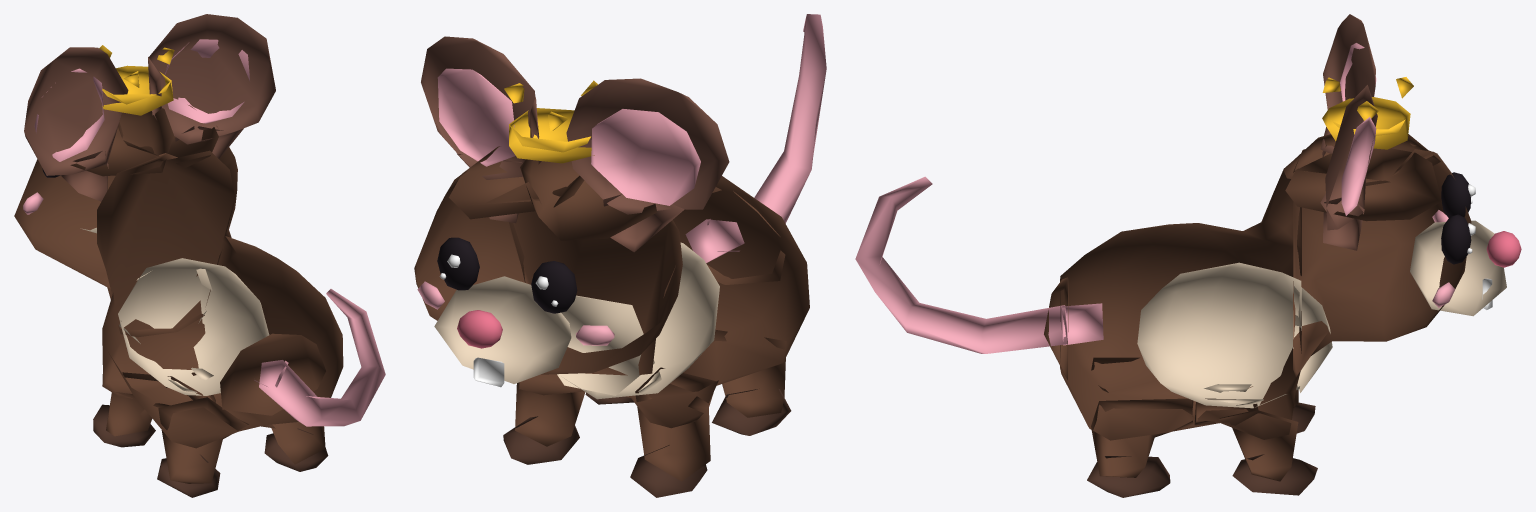
The model's file is mouse_mouse.glb.
3 renders of one model, left to right at view 1: azimuth 30°, elevation 25°; view 2: azimuth 150°, elevation 25°; view 3: azimuth 270°, elevation 25°, orthographic. The views are drawn at different scales.
Parts seen in each view (by area): view 1: body, earL, earR, tail, head, legBL, legFL, legBR, crown; view 2: head, body, earL, earR, tail, legFL, legFR, legBL, crown; view 3: body, head, earR, tail, legFR, legBR, earL, crown, legFL.
Part boxes in pixels (x1=…): body: x1=97, y1=150, x2=343, y2=448; earL: x1=24, y1=47, x2=173, y2=176; earR: x1=118, y1=14, x2=275, y2=167; tail: x1=220, y1=289, x2=385, y2=426; head: x1=14, y1=125, x2=243, y2=343; legBL: x1=157, y1=397, x2=247, y2=497; legFL: x1=93, y1=372, x2=203, y2=447; legBR: x1=222, y1=406, x2=328, y2=471; crown: x1=99, y1=45, x2=174, y2=115; head: x1=414, y1=153, x2=684, y2=395; body: x1=509, y1=176, x2=809, y2=428; earL: x1=520, y1=78, x2=729, y2=240; earR: x1=421, y1=36, x2=584, y2=219; tail: x1=707, y1=14, x2=826, y2=284; legFL: x1=630, y1=367, x2=715, y2=497; legFR: x1=503, y1=382, x2=585, y2=464; legBL: x1=710, y1=330, x2=791, y2=435; crown: x1=504, y1=80, x2=597, y2=163; body: x1=1060, y1=164, x2=1301, y2=440; head: x1=1293, y1=140, x2=1521, y2=392; earR: x1=1285, y1=85, x2=1441, y2=230; tail: x1=855, y1=176, x2=1068, y2=380; legFR: x1=1194, y1=398, x2=1317, y2=495; legBR: x1=1087, y1=398, x2=1193, y2=497; earL: x1=1283, y1=14, x2=1440, y2=185; crown: x1=1322, y1=77, x2=1413, y2=149; legFL: x1=1204, y1=384, x2=1315, y2=433.
Size of the model in its own units: 2.16 by 3.08 by 4.55.
Materials: 1 (1 with a texture image).
